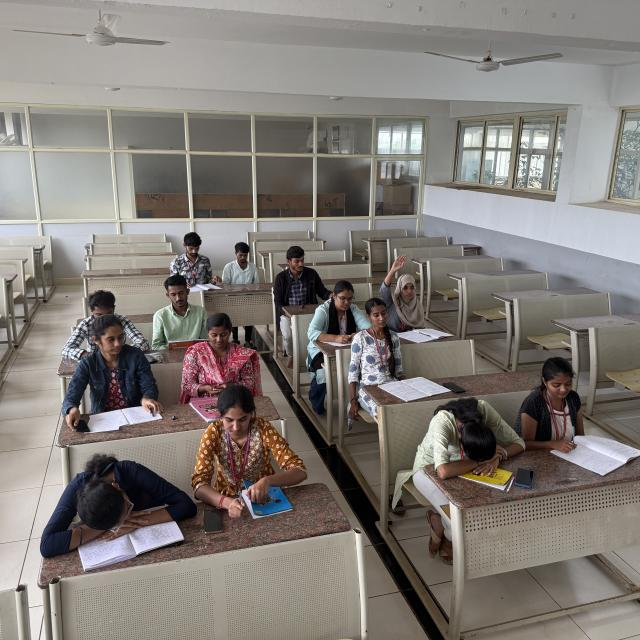Hand Rising: (379, 251, 433, 326)
Reading: (65, 319, 163, 430), (151, 273, 207, 354), (172, 228, 225, 296)
Sleeping: (36, 448, 192, 536), (415, 394, 530, 470)
Using Phone: (188, 312, 264, 392)
Writing: (522, 356, 617, 466), (311, 280, 368, 352)
